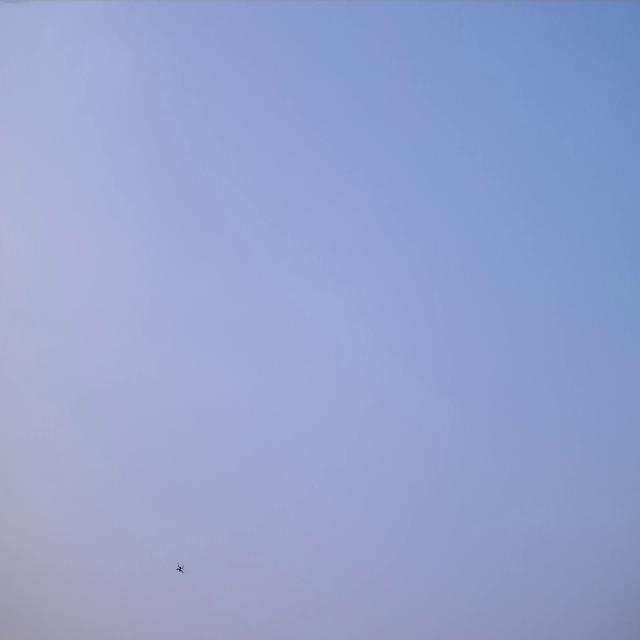UAV: (177, 566, 183, 572)
